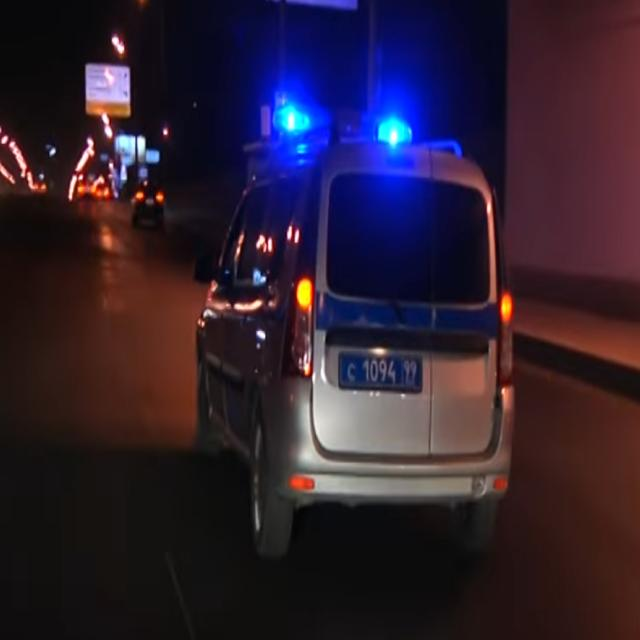non emergency car: (132, 178, 166, 233)
police car: (196, 99, 517, 562)
